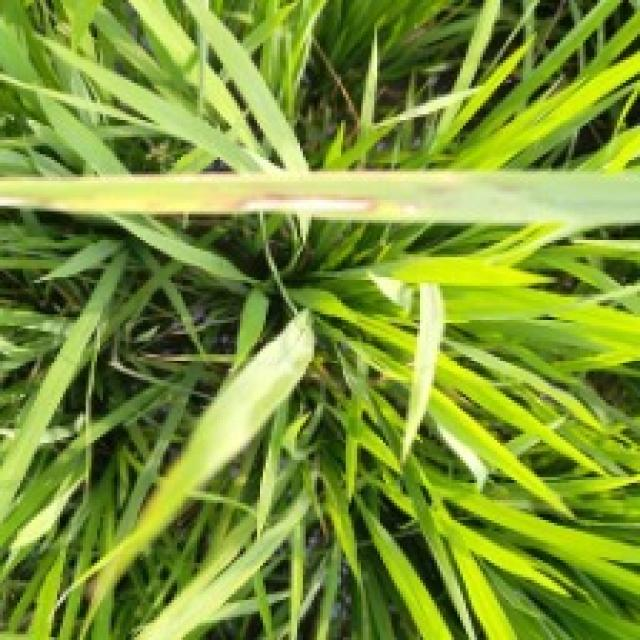Rice___Bacterial_Leaf_Blight: (0, 167, 637, 228)
